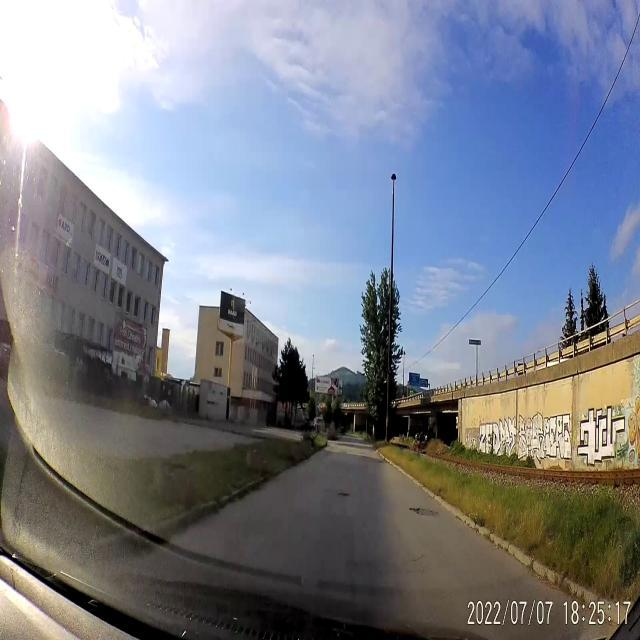Pothole: (408, 505, 442, 519), (338, 488, 350, 499), (378, 458, 388, 465)
